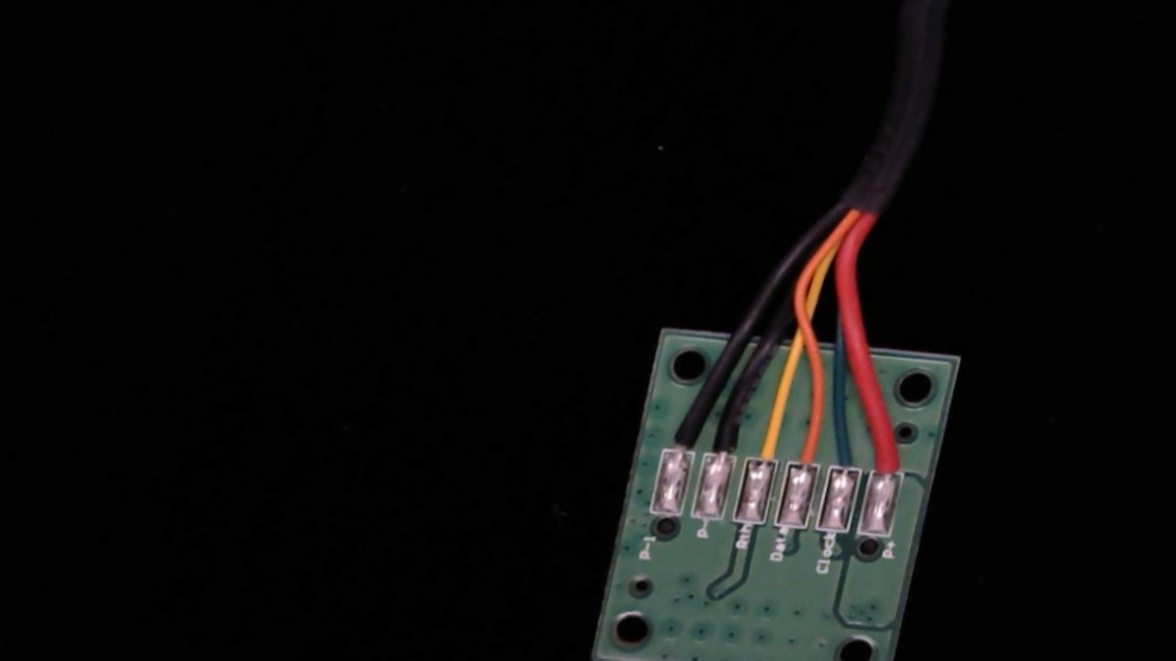Black: (697, 405, 749, 478)
Black1: (655, 398, 707, 470)
Green: (822, 423, 870, 489)
Orange: (782, 420, 830, 487)
Red: (864, 422, 913, 493)
Yellow: (739, 411, 789, 484)
